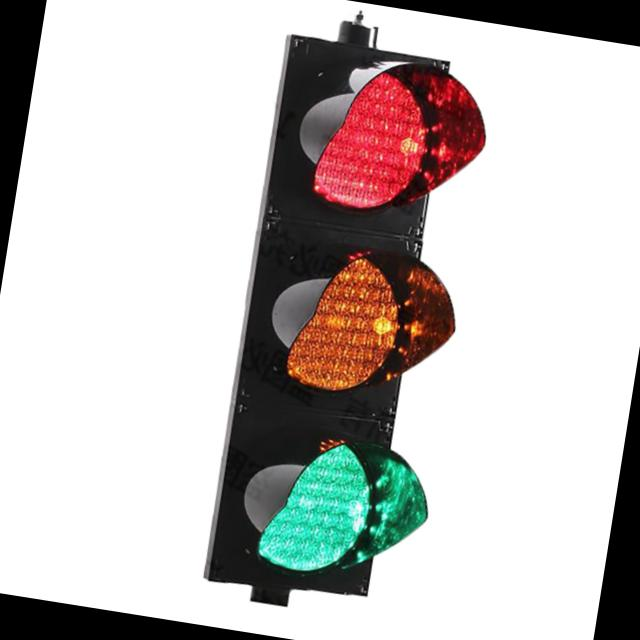green-lights: (258, 432, 380, 581)
red-lights: (306, 62, 436, 215)
yellow-lights: (284, 247, 406, 397)
